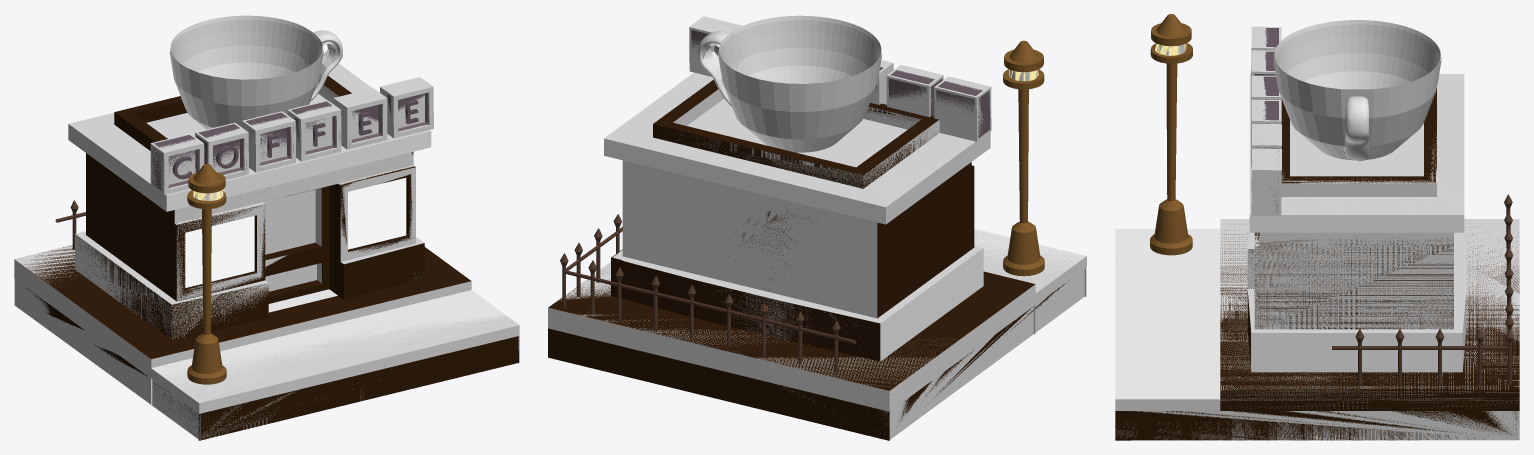
The model's file is COFFEE.glb.
3 views of the same model, side by side, from view 1: azimuth 30°, elevation 25°; view 2: azimuth 150°, elevation 25°; view 3: azimuth 270°, elevation 25° (orthographic). The views are drawn at different scales.
Visible parts, largest first — view 1: Plane, Plane.012, l, l.001, Circle.001, Plane.021, Plane.016, Plane.018, Plane.017, Plane.019, Circle, Plane.020 (+5 smaller); view 2: Plane, Plane.012, l.001, l, Circle.001, Circle, Plane.021, Plane.014, Plane.003, Plane.020, Plane.013, Plane.010 (+5 smaller); view 3: Plane.012, Plane, l, l.001, Circle.001, Circle, Plane.016, Plane.014, Plane.006, Plane.003, Plane.017, Plane.013 (+5 smaller).
Boxes of the visible parts, bbox=[...] form: Plane: bbox=[14, 63, 519, 440]; Plane.012: bbox=[14, 88, 518, 440]; l: bbox=[170, 15, 322, 79]; l.001: bbox=[169, 50, 323, 129]; Circle.001: bbox=[187, 163, 226, 384]; Plane.021: bbox=[150, 133, 204, 194]; Plane.016: bbox=[380, 77, 433, 138]; Plane.018: bbox=[287, 100, 341, 161]; Plane.017: bbox=[333, 88, 387, 149]; Plane.019: bbox=[242, 111, 295, 172]; Circle: bbox=[187, 168, 226, 384]; Plane.020: bbox=[195, 122, 248, 179]; Plane: bbox=[548, 72, 1086, 440]; Plane.012: bbox=[557, 107, 1086, 439]; l.001: bbox=[717, 52, 882, 152]; l: bbox=[719, 15, 881, 83]; Circle.001: bbox=[1003, 40, 1044, 276]; Circle: bbox=[1003, 43, 1043, 274]; Plane.021: bbox=[934, 76, 991, 141]; Plane.014: bbox=[560, 214, 839, 373]; Plane.003: bbox=[560, 214, 840, 366]; Plane.020: bbox=[886, 64, 943, 116]; Plane.013: bbox=[565, 227, 856, 344]; Plane.010: bbox=[936, 81, 990, 138]; Plane.012: bbox=[1115, 137, 1519, 440]; Plane: bbox=[1115, 74, 1519, 440]; l: bbox=[1274, 20, 1440, 89]; l.001: bbox=[1272, 55, 1441, 160]; Circle.001: bbox=[1150, 14, 1192, 255]; Circle: bbox=[1150, 19, 1192, 255]; Plane.016: bbox=[1251, 148, 1281, 215]; Plane.014: bbox=[1355, 194, 1513, 384]; Plane.006: bbox=[1342, 96, 1368, 161]; Plane.003: bbox=[1358, 196, 1513, 384]; Plane.017: bbox=[1251, 124, 1281, 184]; Plane.013: bbox=[1332, 211, 1510, 349].
Size of the model in its own units: 10.59 by 8.68 by 10.6.
